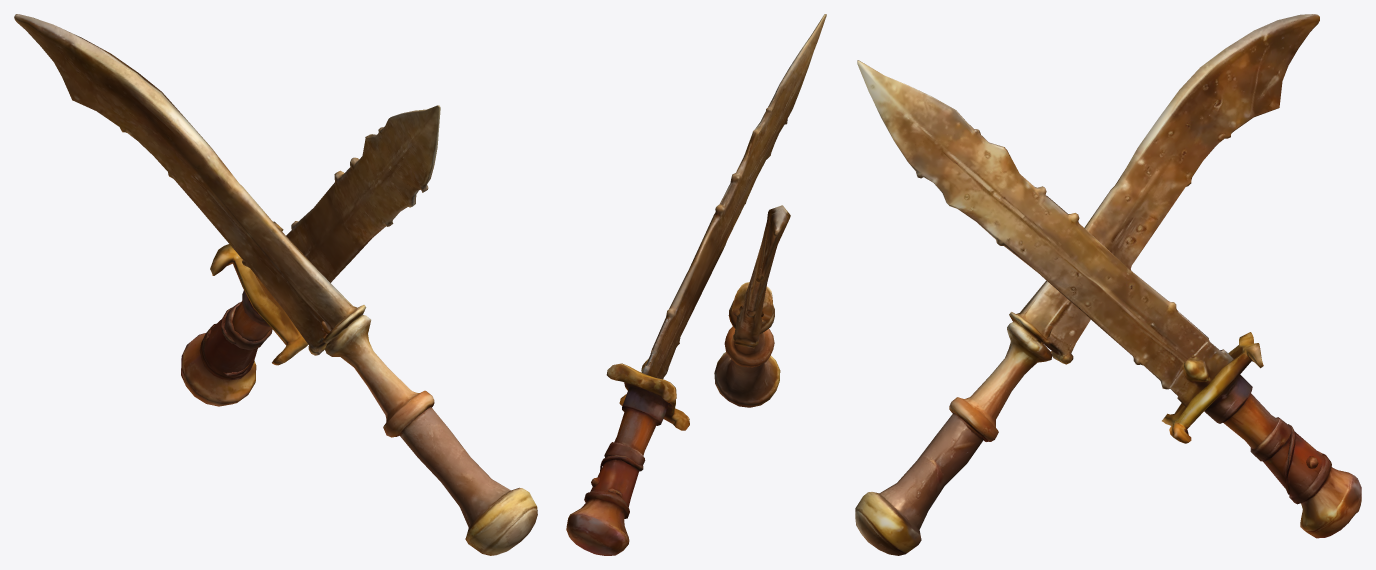
The picture shows the model from 3 angles, left to right: view 1: azimuth 30°, elevation 25°; view 2: azimuth 150°, elevation 25°; view 3: azimuth 270°, elevation 25°; orthographic projection. The views are drawn at different scales.
Visible parts, largest first — view 1: tripo_node_4b6bb8e8-531a-45c9-b91e-a70a71fb7516; view 2: tripo_node_4b6bb8e8-531a-45c9-b91e-a70a71fb7516; view 3: tripo_node_4b6bb8e8-531a-45c9-b91e-a70a71fb7516.
Part boxes in pixels (left/top/right/bottom): tripo_node_4b6bb8e8-531a-45c9-b91e-a70a71fb7516: left=14, top=14, right=537, bottom=555; tripo_node_4b6bb8e8-531a-45c9-b91e-a70a71fb7516: left=566, top=14, right=826, bottom=555; tripo_node_4b6bb8e8-531a-45c9-b91e-a70a71fb7516: left=855, top=14, right=1361, bottom=555.
Bounding box in the file's own units: 0.6426 × 0.998 × 0.998.
1 material, 1 textured.
